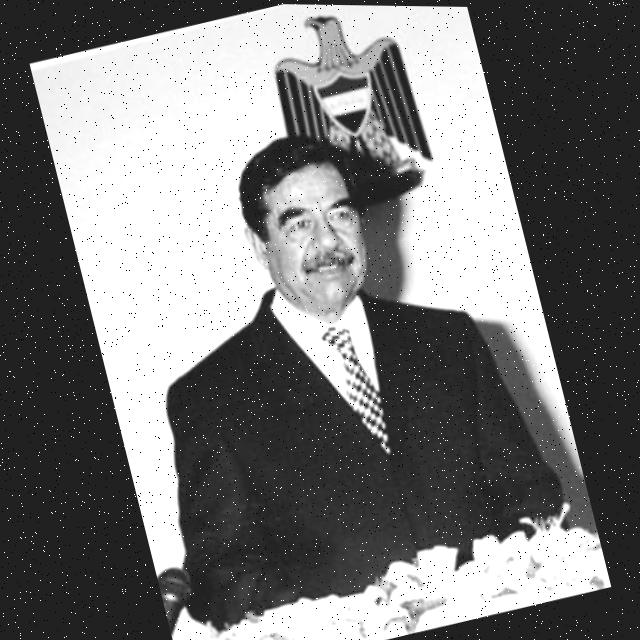face: (236, 144, 386, 326)
